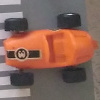carro: (4, 13, 95, 85)
